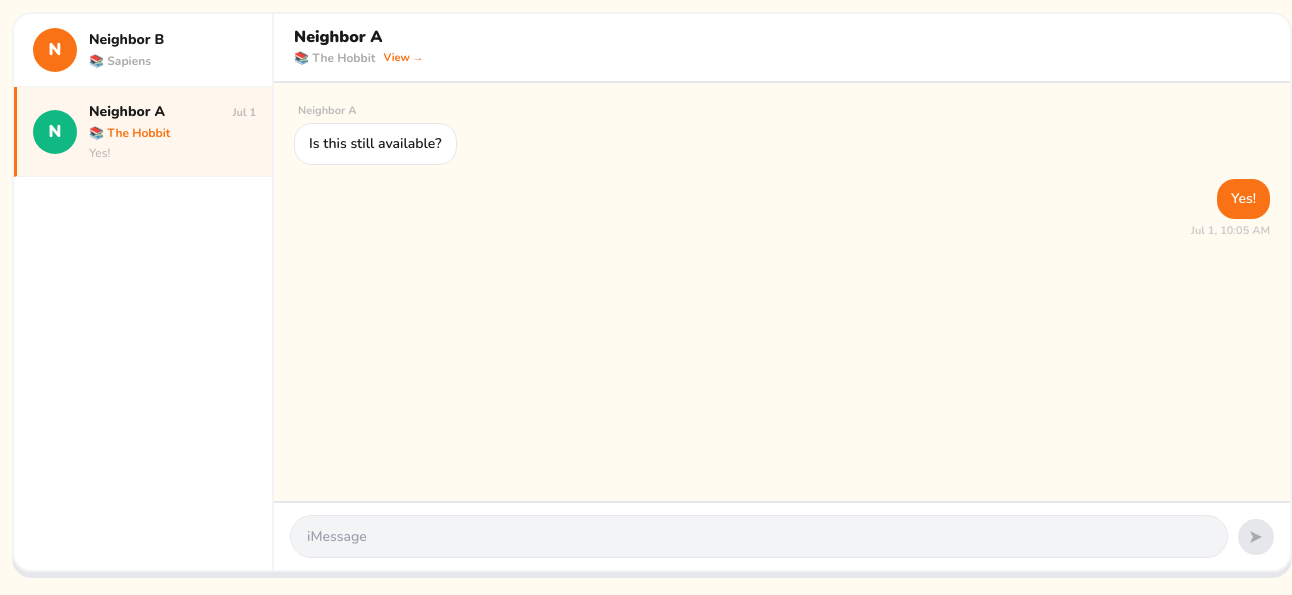
Scenario: MessagesTab › non-demo mode: sending a message inserts a row via Supabase and shows it immediately
The image size is (1292, 595).
Type "See you Saturday!" into the field with placeholder "iMessage" at (759, 536), box left=290, top=515, right=1228, bottom=558
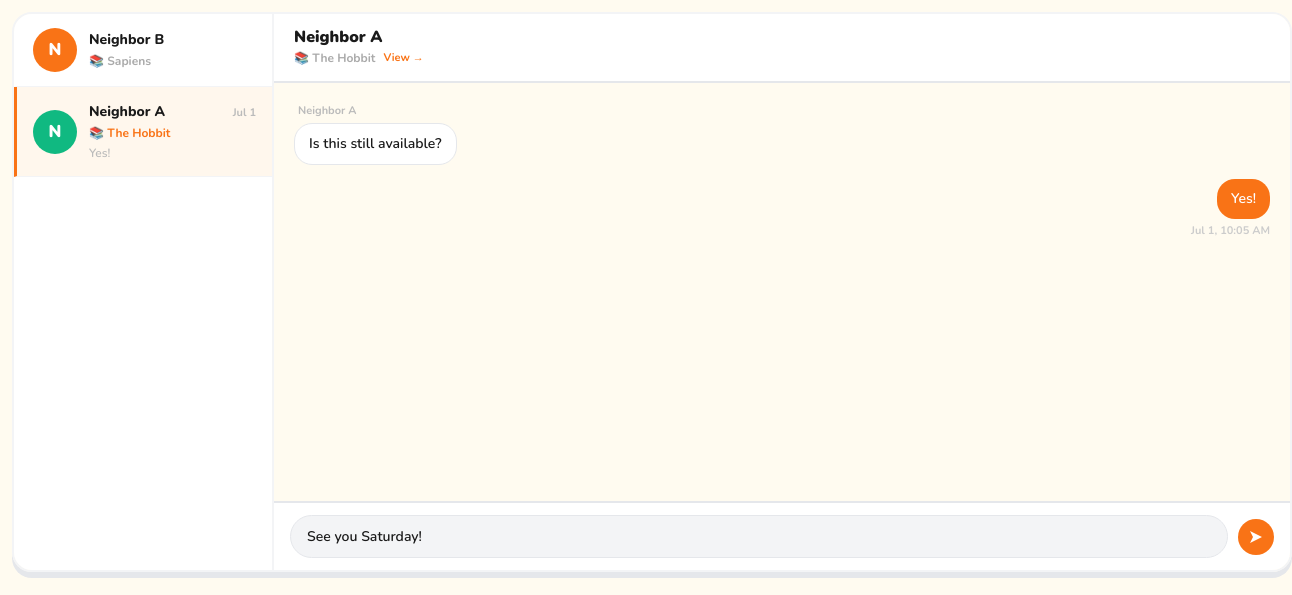
Click the submit button at (1256, 536), box left=1238, top=518, right=1274, bottom=554
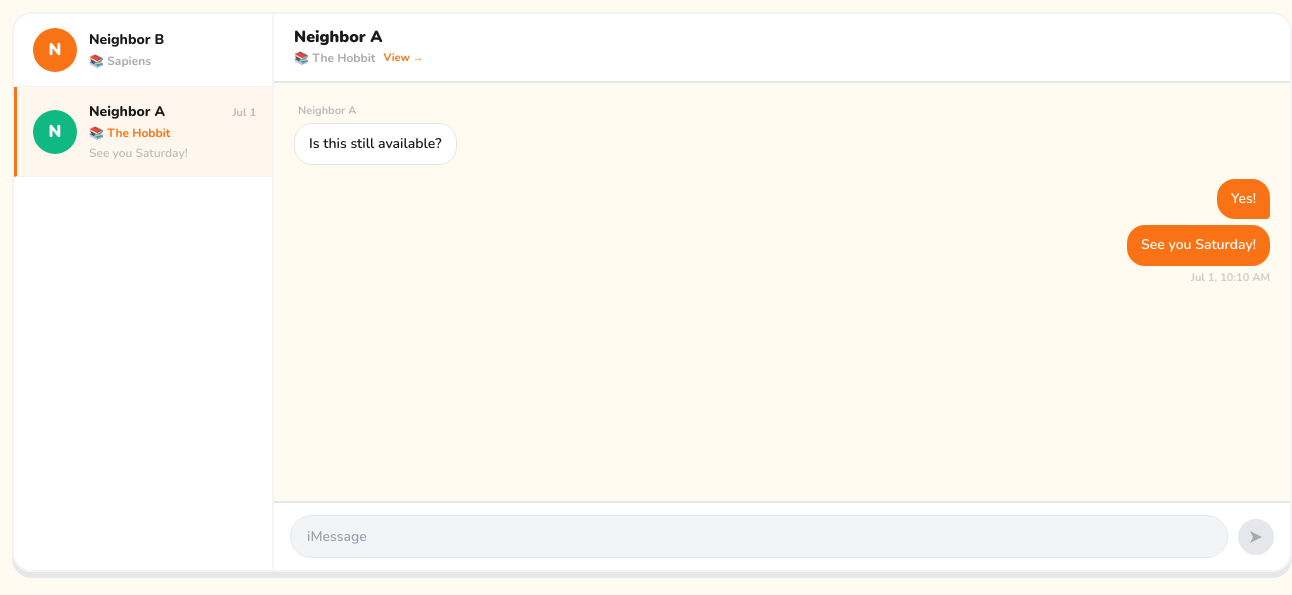
Check: the text "See you Saturday!" is shown, box left=89, top=145, right=188, bottom=161
